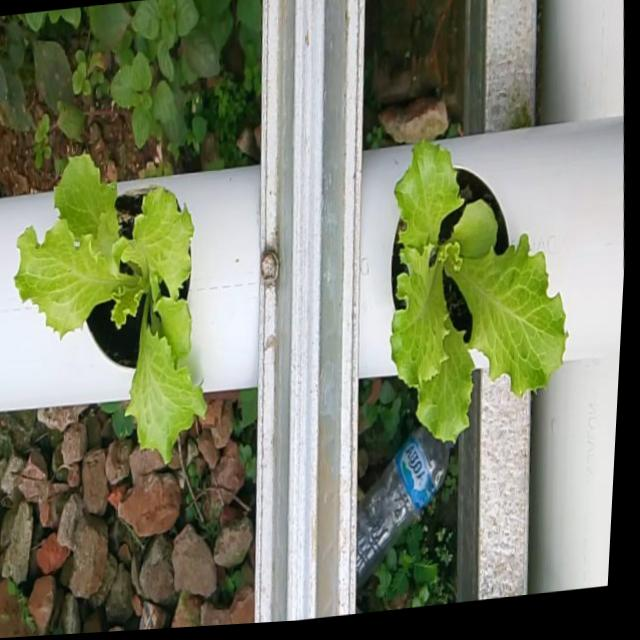Baby: (5, 142, 201, 454), (386, 129, 565, 436)
